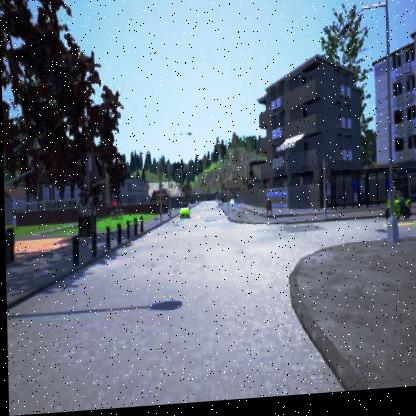motobike: (384, 194, 411, 225)
vehicle: (177, 202, 188, 220)
